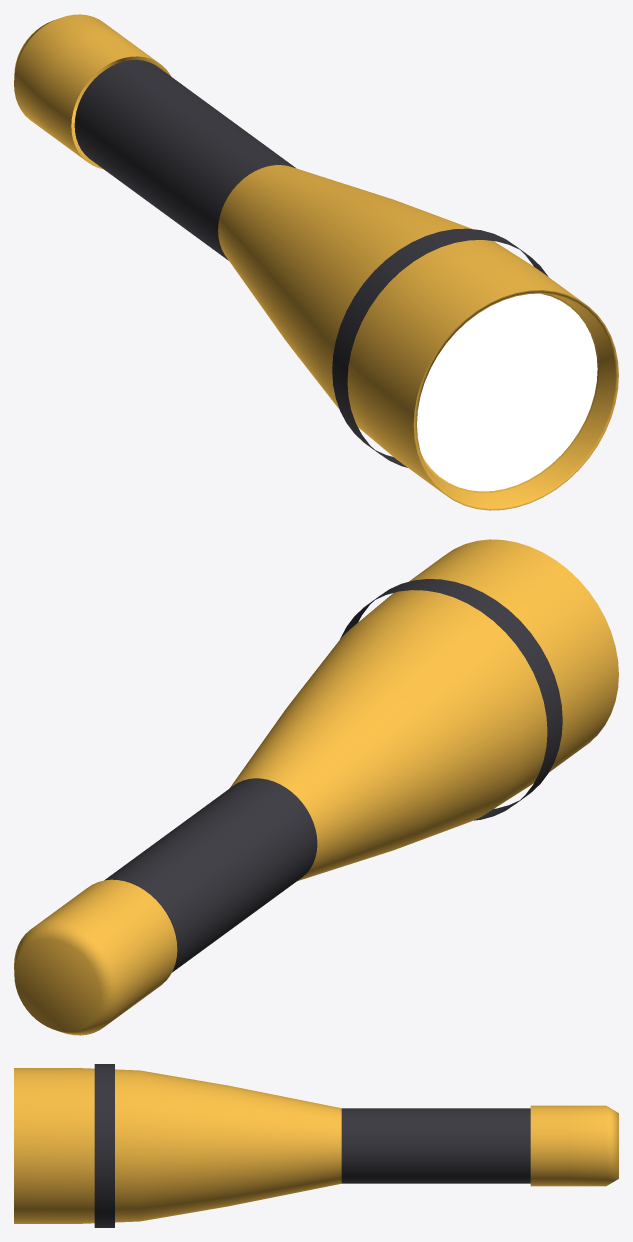
Rendered from torch.glb.
3 views of the same model, one above another, from view 1: azimuth 30°, elevation 25°; view 2: azimuth 150°, elevation 25°; view 3: azimuth 270°, elevation 25° (orthographic). The views are drawn at different scales.
Parts seen in each view (by area): view 1: torch_head, torch_lens_face, torch_grip, torch_rear_cap, torch_front_lip, torch_ring; view 2: torch_head, torch_grip, torch_rear_cap, torch_ring; view 3: torch_head, torch_grip, torch_rear_cap, torch_ring.
Part boxes in pixels (x1,y1,x2,y2): torch_head: (218,165,599,493); torch_lens_face: (417,293,597,491); torch_grip: (74,60,295,260); torch_rear_cap: (14,14,171,169); torch_front_lip: (413,290,618,510); torch_ring: (332,228,548,467); torch_head: (229,539,618,880); torch_grip: (104,778,317,972); torch_rear_cap: (14,879,177,1035); torch_ring: (340,579,562,820); torch_head: (14,1068,341,1223); torch_grip: (341,1108,530,1183); torch_rear_cap: (530,1105,618,1186); torch_ring: (94,1064,114,1227).
Size of the model in its own units: 0.65 by 0.65 by 2.4.
